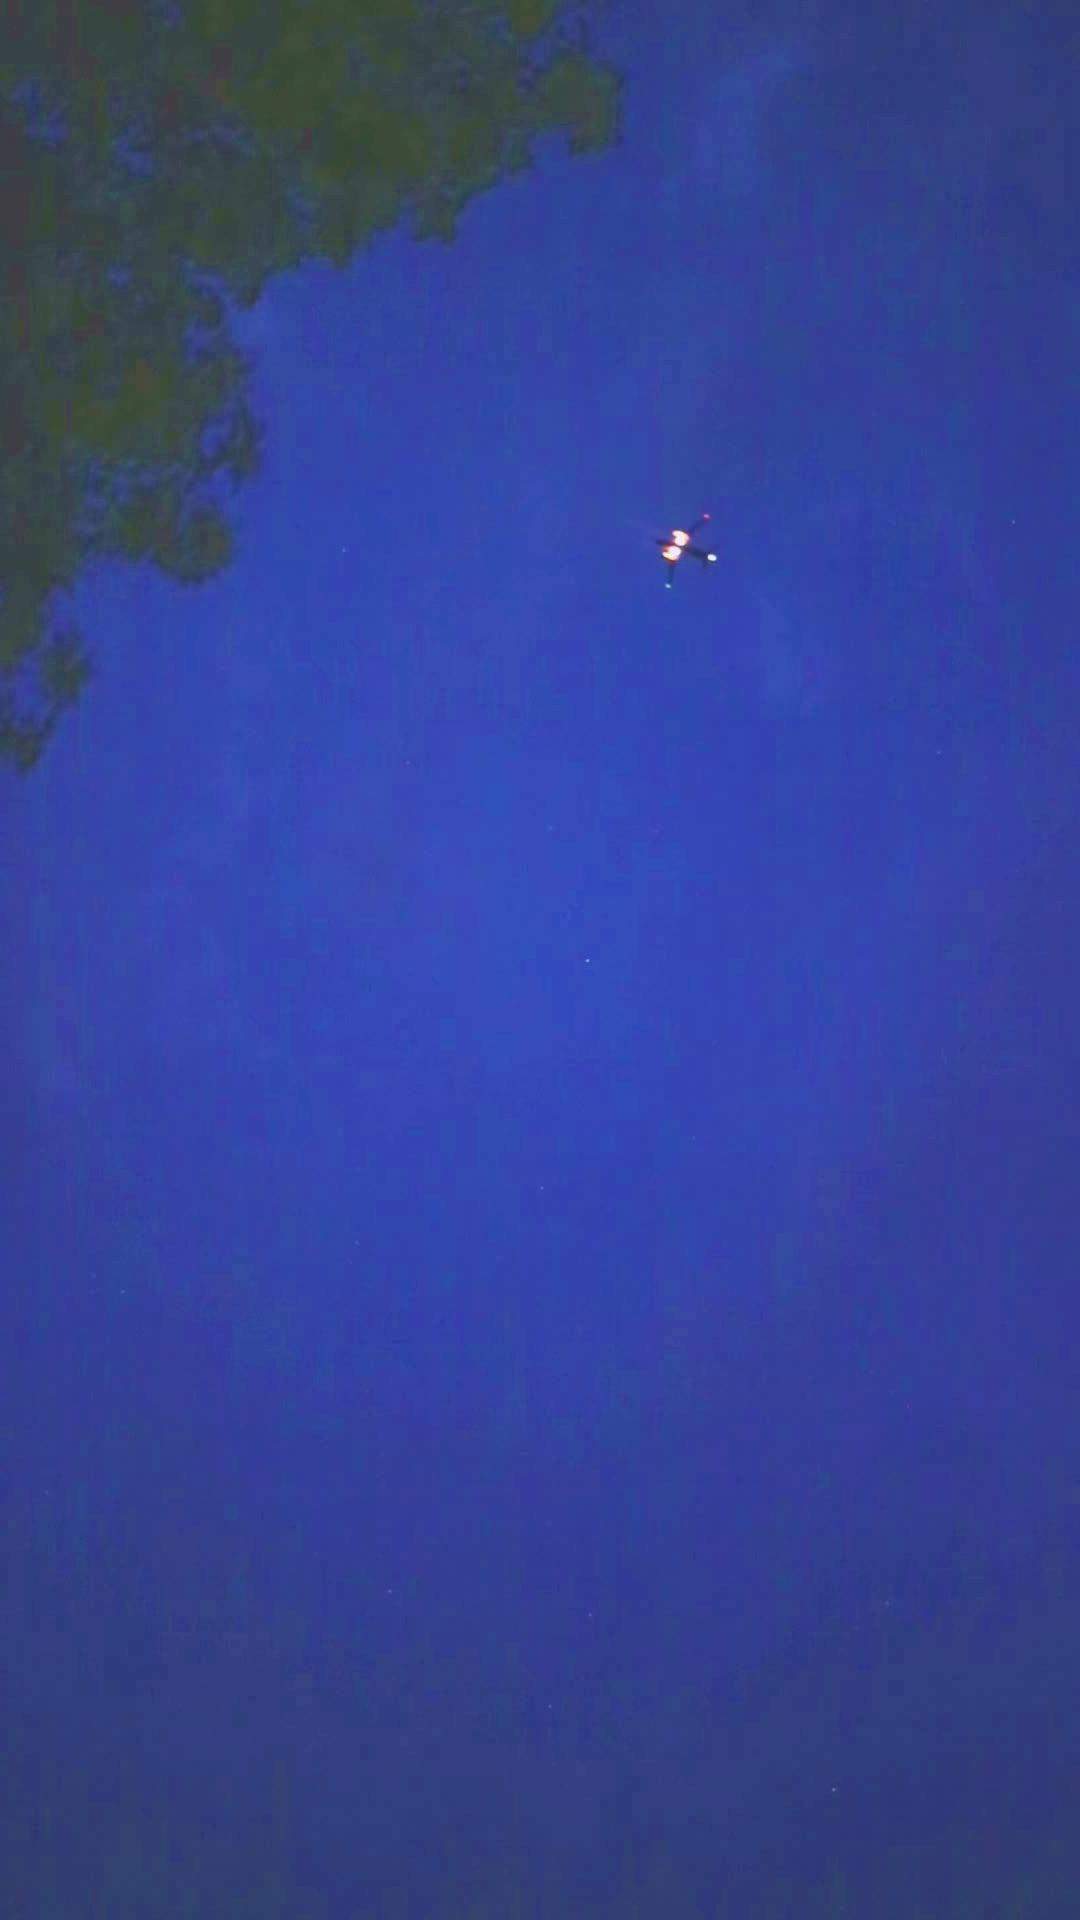Plane: (633, 489, 733, 599)
